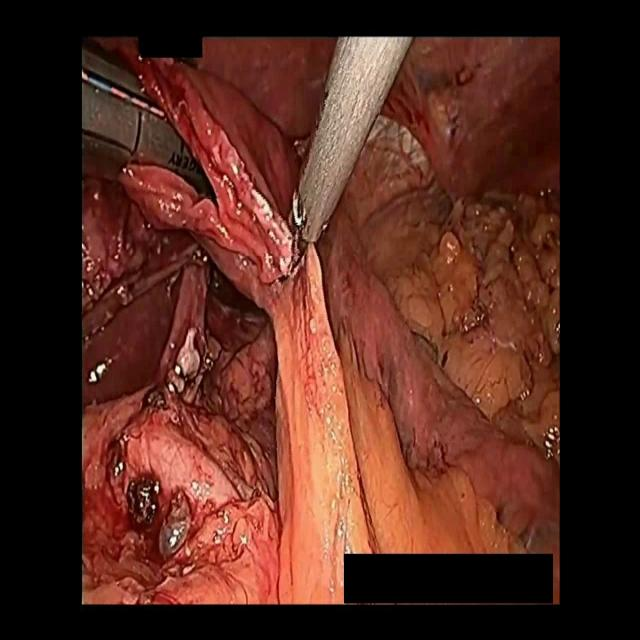surgical-area: (82, 37, 560, 606)
surgical-tool: (286, 36, 415, 262), (82, 52, 208, 190)
